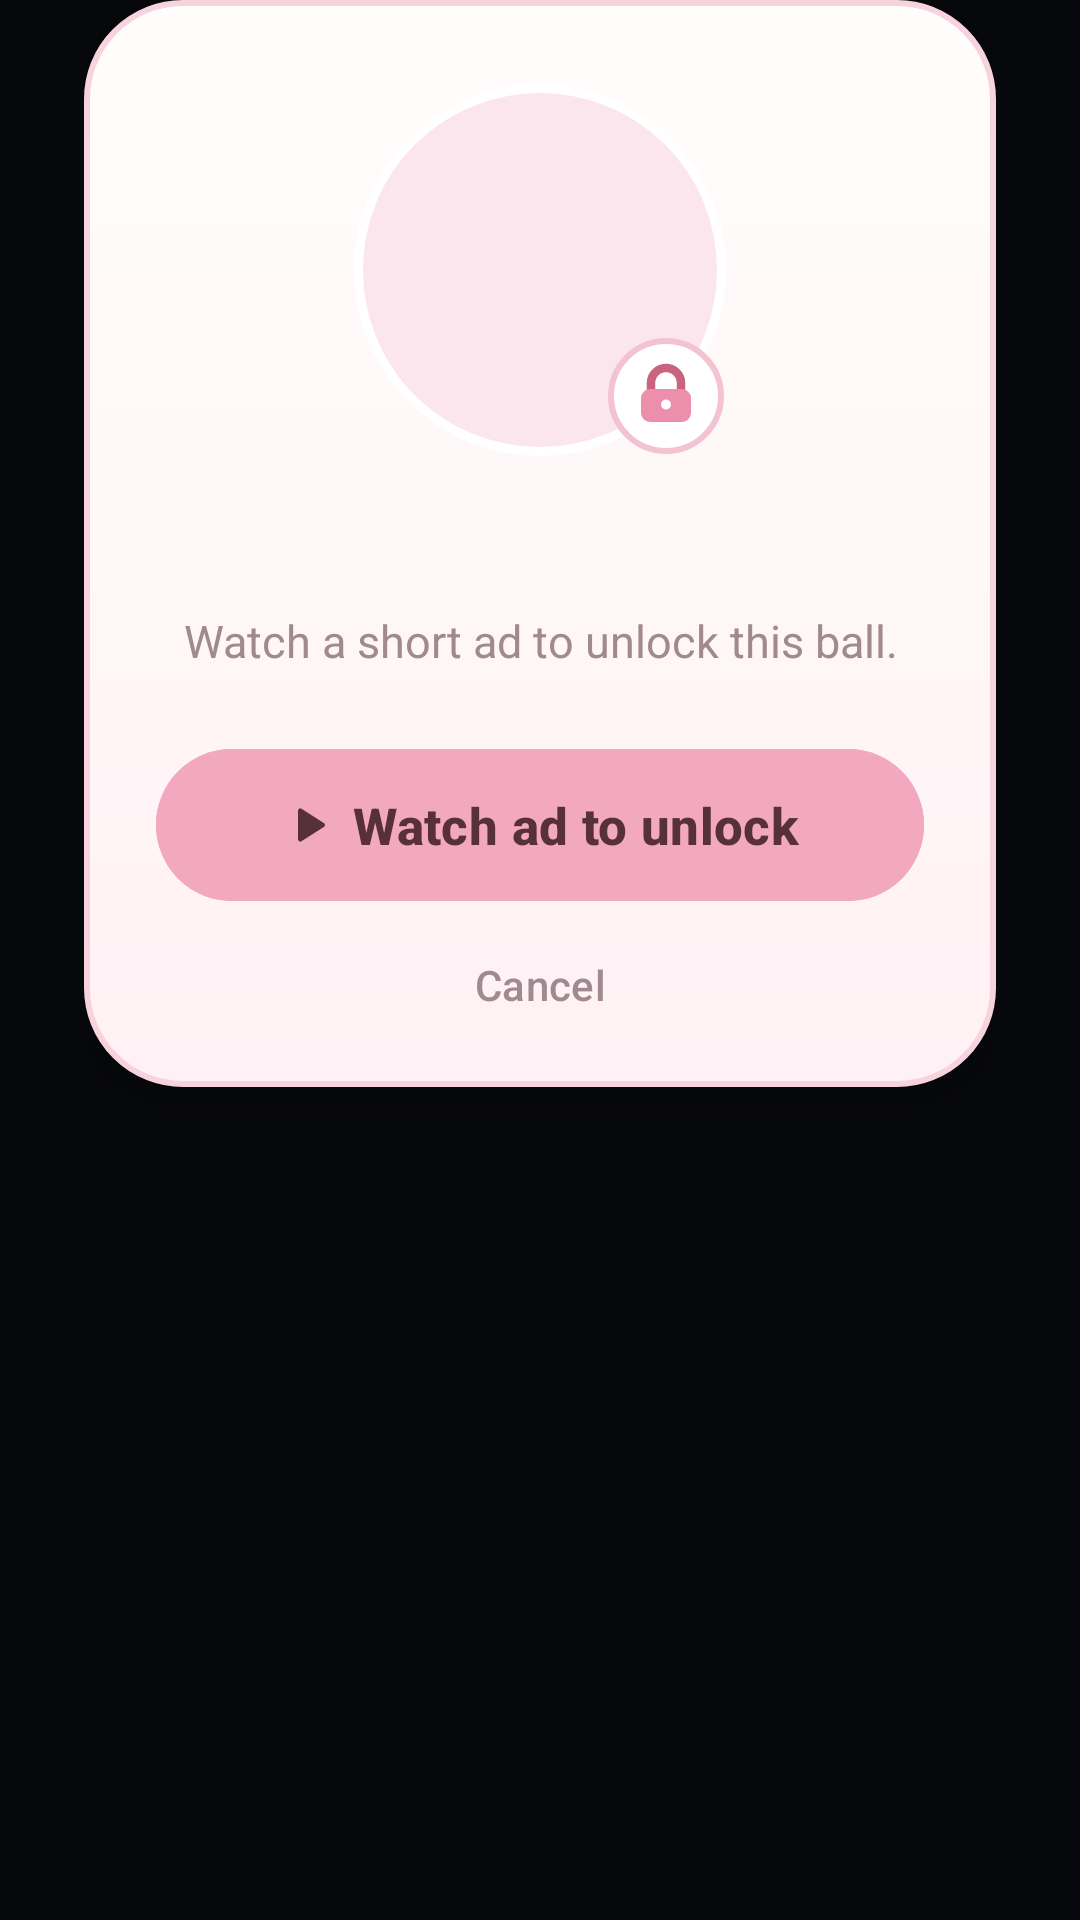

Locate icon controls on the screen. Image size 1080 × 1920, boxes as Rect(x1, y1, x2, y2).
lock badge: Rect(608, 338, 724, 454)
